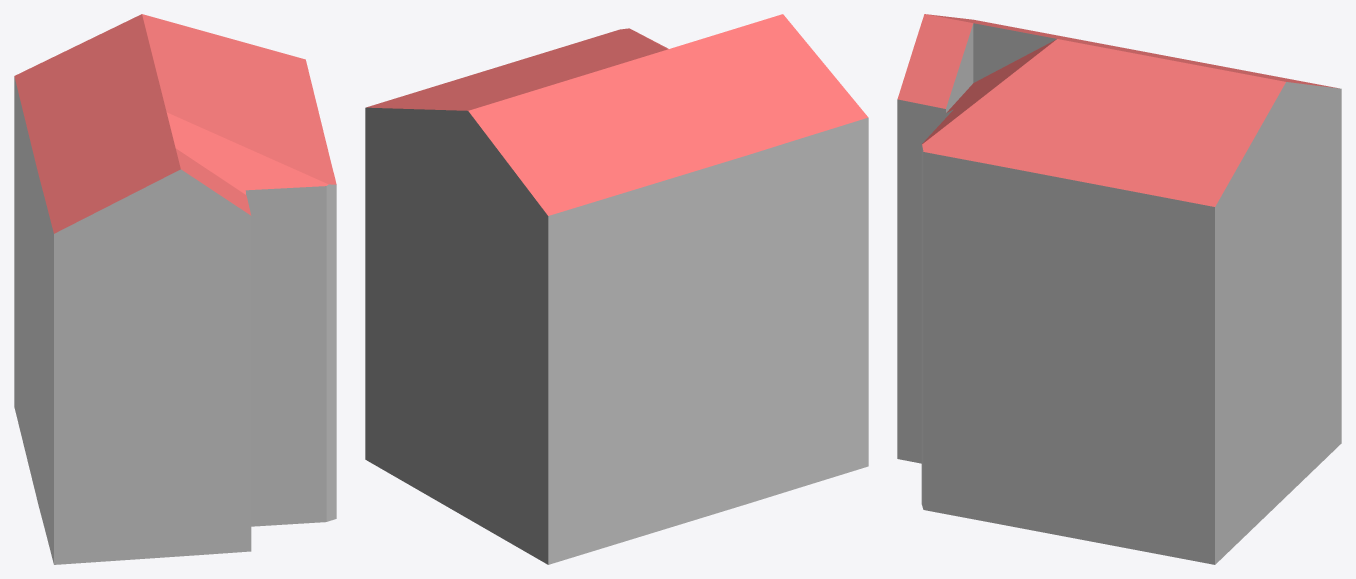
Rendered from DEBY_LOD2_4907163.gltf.
3 renders of one model, left to right at view 1: azimuth 30°, elevation 25°; view 2: azimuth 150°, elevation 25°; view 3: azimuth 270°, elevation 25°, orthographic. The views are drawn at different scales.
Parts seen in each view (by area): view 1: Z_UP; view 2: Z_UP; view 3: Z_UP.
Boxes of the visible parts, left/top/right/bottom form: Z_UP: left=14, top=14, right=336, bottom=564; Z_UP: left=365, top=14, right=868, bottom=564; Z_UP: left=897, top=14, right=1341, bottom=564.
Bounding box in the file's own units: 17.66 × 17.92 × 17.39.
